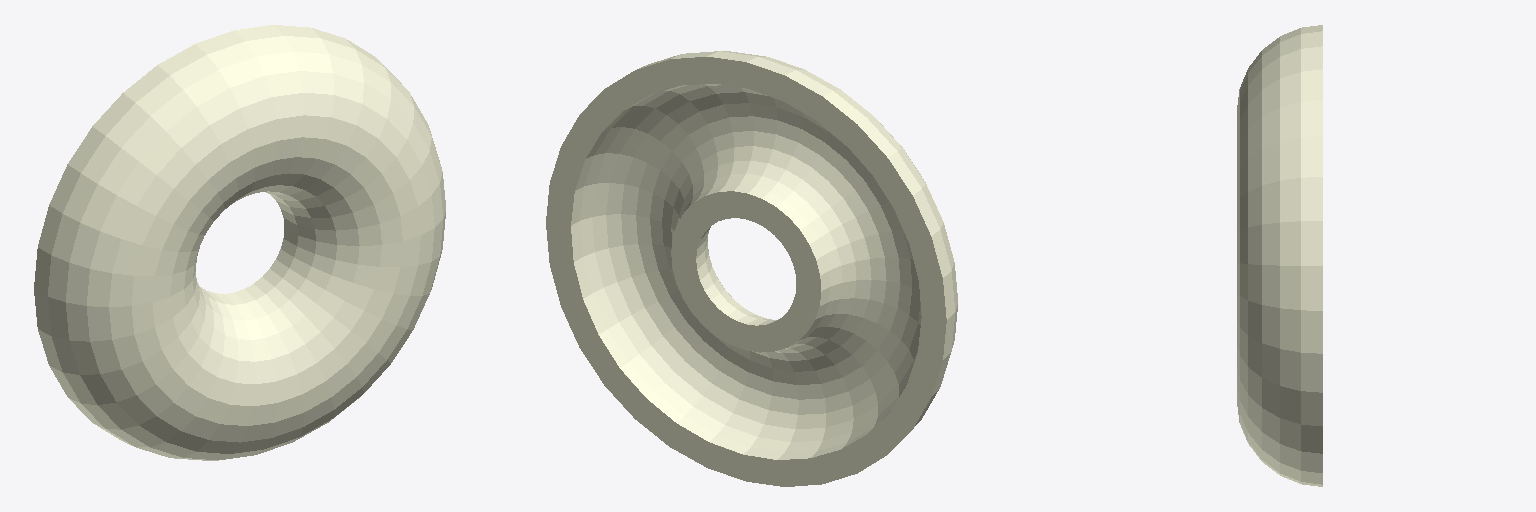
The model's file is section_014.obj.
3 views of the same model, side by side, from view 1: azimuth 30°, elevation 25°; view 2: azimuth 150°, elevation 25°; view 3: azimuth 270°, elevation 25° (orthographic).
Size of the model in its own units: 16 by 16 by 3.